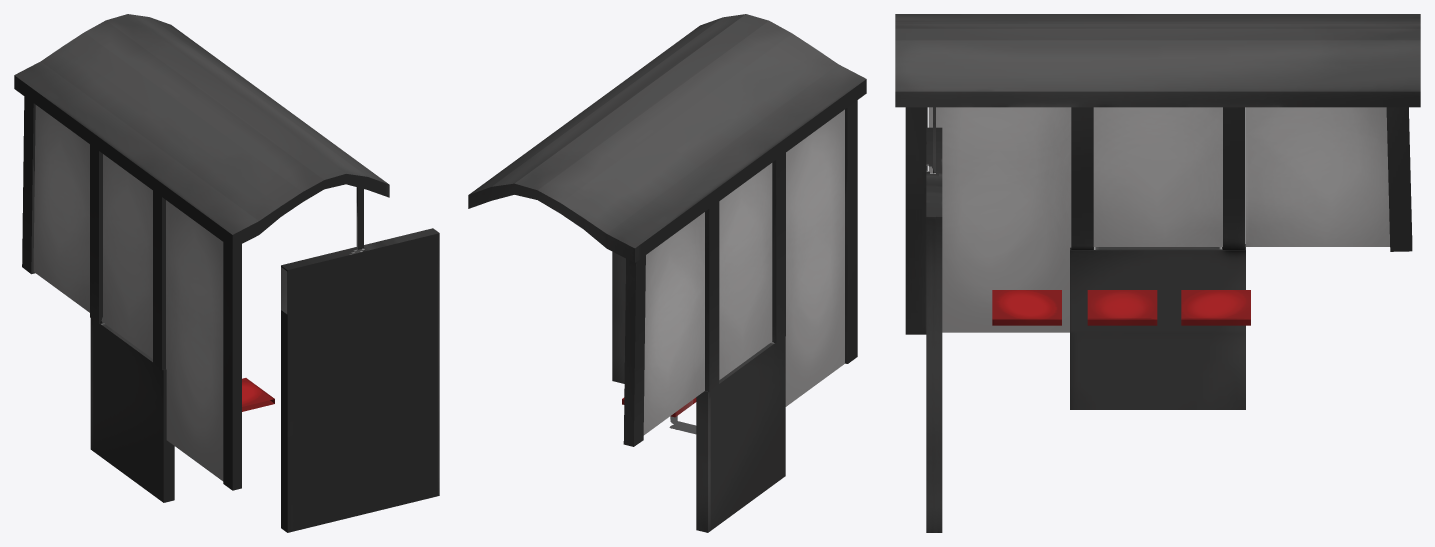
The model's file is BusStopNathalia.fbx.
The picture shows the model from 3 angles, left to right: view 1: azimuth 30°, elevation 25°; view 2: azimuth 150°, elevation 25°; view 3: azimuth 270°, elevation 25°; orthographic projection. The views are drawn at different scales.
Parts seen in each view (by area): view 1: BusStop; view 2: BusStop; view 3: BusStop.
Boxes of the visible parts, box(x1,y1,x2,y2) form: BusStop: box(14, 14, 439, 532); BusStop: box(468, 14, 866, 532); BusStop: box(895, 14, 1420, 532).
Size of the model in its own units: 424 by 658 by 728.
